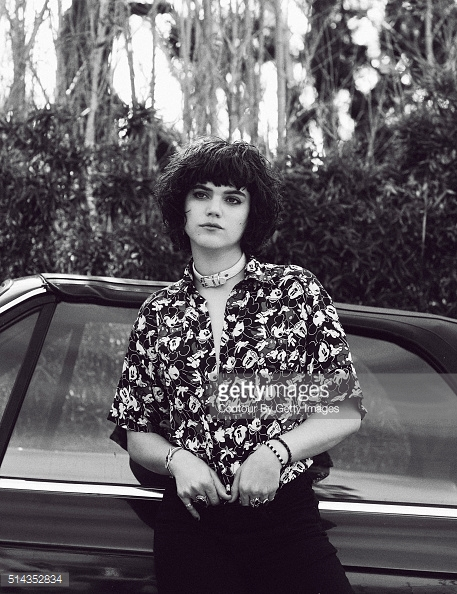em pe: (106, 138, 353, 594)
